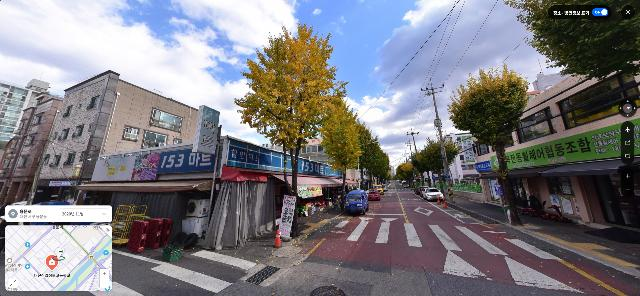ginkgo: (234, 22, 351, 238), (321, 96, 363, 215), (402, 162, 413, 188)
other: (446, 59, 529, 226), (423, 139, 456, 198), (357, 124, 381, 190), (369, 143, 389, 188), (416, 148, 436, 187), (376, 149, 392, 187), (409, 154, 425, 187), (395, 164, 406, 186)
